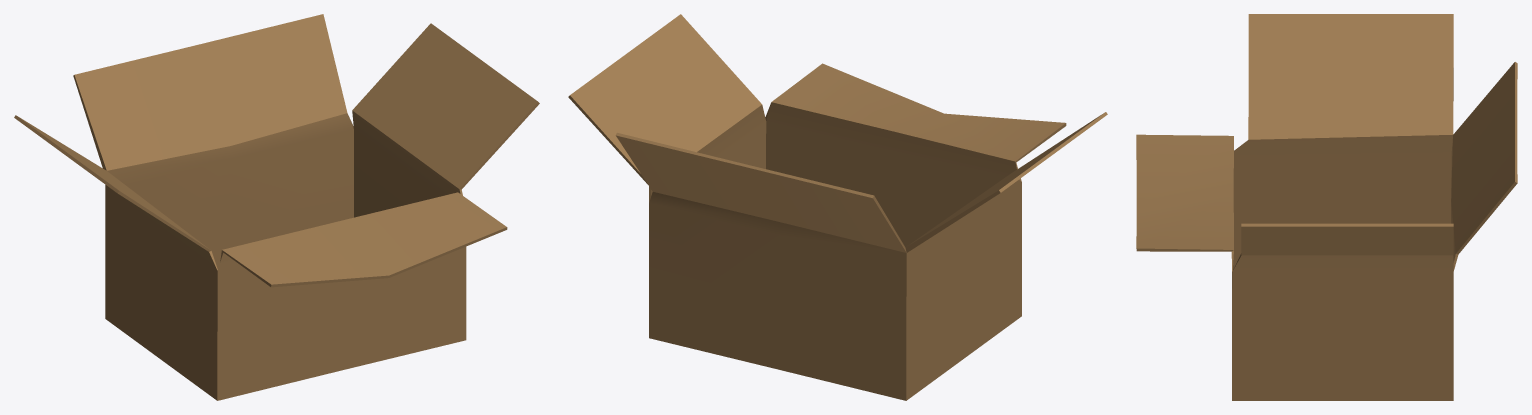
File: rua_box_01.glb
3 renders of one model, left to right at view 1: azimuth 30°, elevation 25°; view 2: azimuth 150°, elevation 25°; view 3: azimuth 270°, elevation 25°, orthographic. The views are drawn at different scales.
Parts seen in each view (by area): view 1: SM_Box_01; view 2: SM_Box_01; view 3: SM_Box_01.
Part boxes in pixels (box(x1,y1,x2,y2)): SM_Box_01: box(14, 14, 539, 400); SM_Box_01: box(568, 14, 1107, 400); SM_Box_01: box(1136, 14, 1517, 400).
Size of what is drawn, in the model's own units: 1 by 0.518 by 0.8006.
